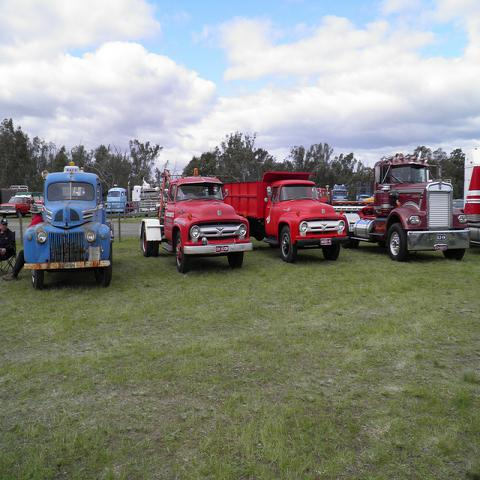car: (0, 196, 43, 218)
truck: (330, 145, 471, 262), (223, 170, 347, 263), (24, 165, 113, 291), (137, 171, 248, 272), (462, 146, 479, 246), (106, 180, 138, 213), (316, 188, 329, 204), (332, 185, 347, 198)
